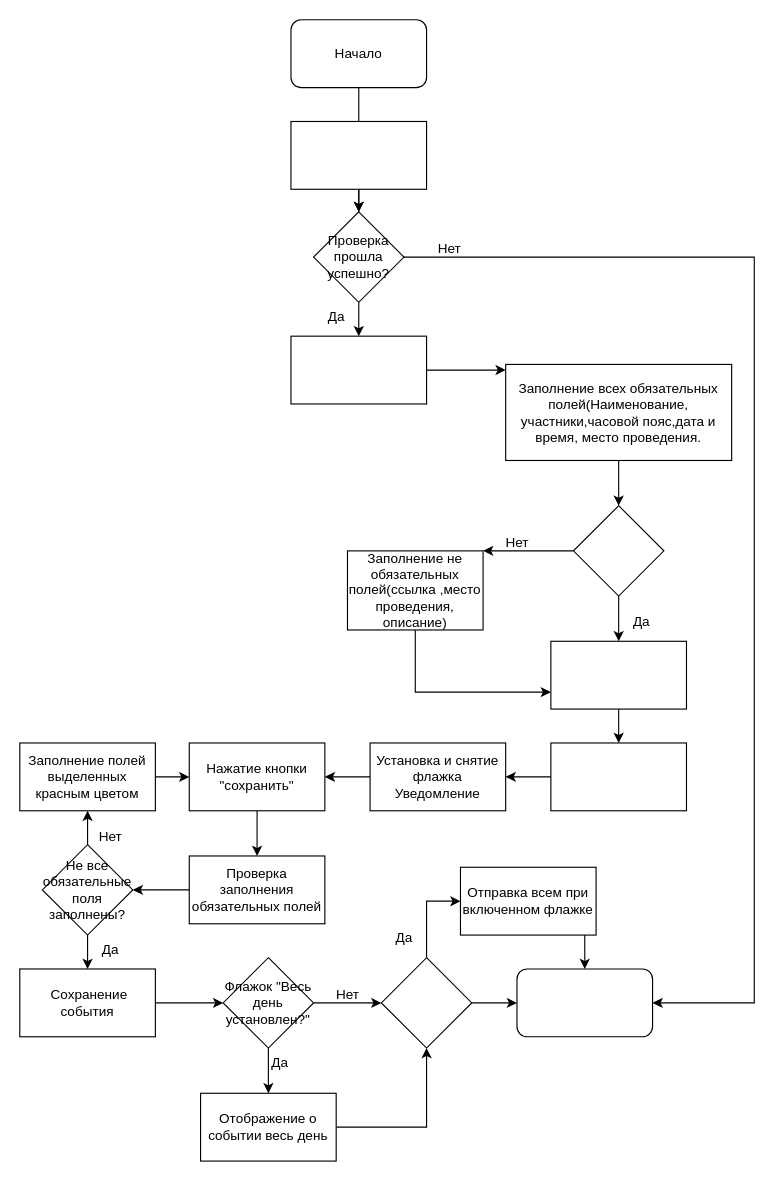
Image size: 783x1181. Some labels were removed from this diagram. Here are the shapes that lost their labels. From the top down, the box of each, then its label:
(290, 120, 427, 189): Проверка наличия предустановленных событий в системе
(290, 335, 427, 404): Создание события
(572, 505, 664, 596): Период повторения выбран?
(550, 640, 686, 709): Настройка повторения
(550, 742, 686, 811): Установка и снятие флажка весь день
(380, 957, 472, 1048): Флажок "Уведомить о событии?"
(516, 968, 653, 1037): Конец
